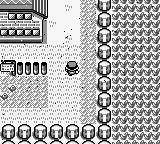captura: (112, 1, 159, 143)
leer: (0, 60, 16, 75)
main: (64, 61, 80, 76)
no-caminable: (0, 0, 111, 143), (0, 0, 46, 43), (17, 61, 47, 75)
